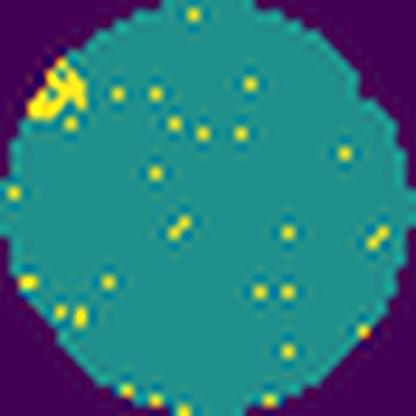Edge-Loc: (23, 57, 92, 132)
